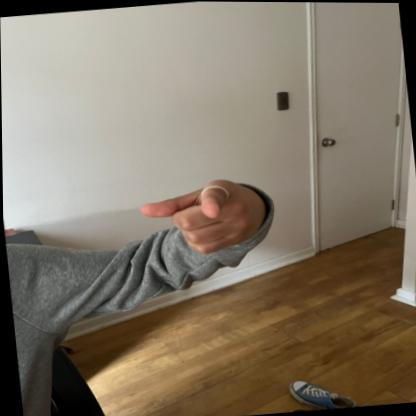X: (137, 170, 272, 263)
